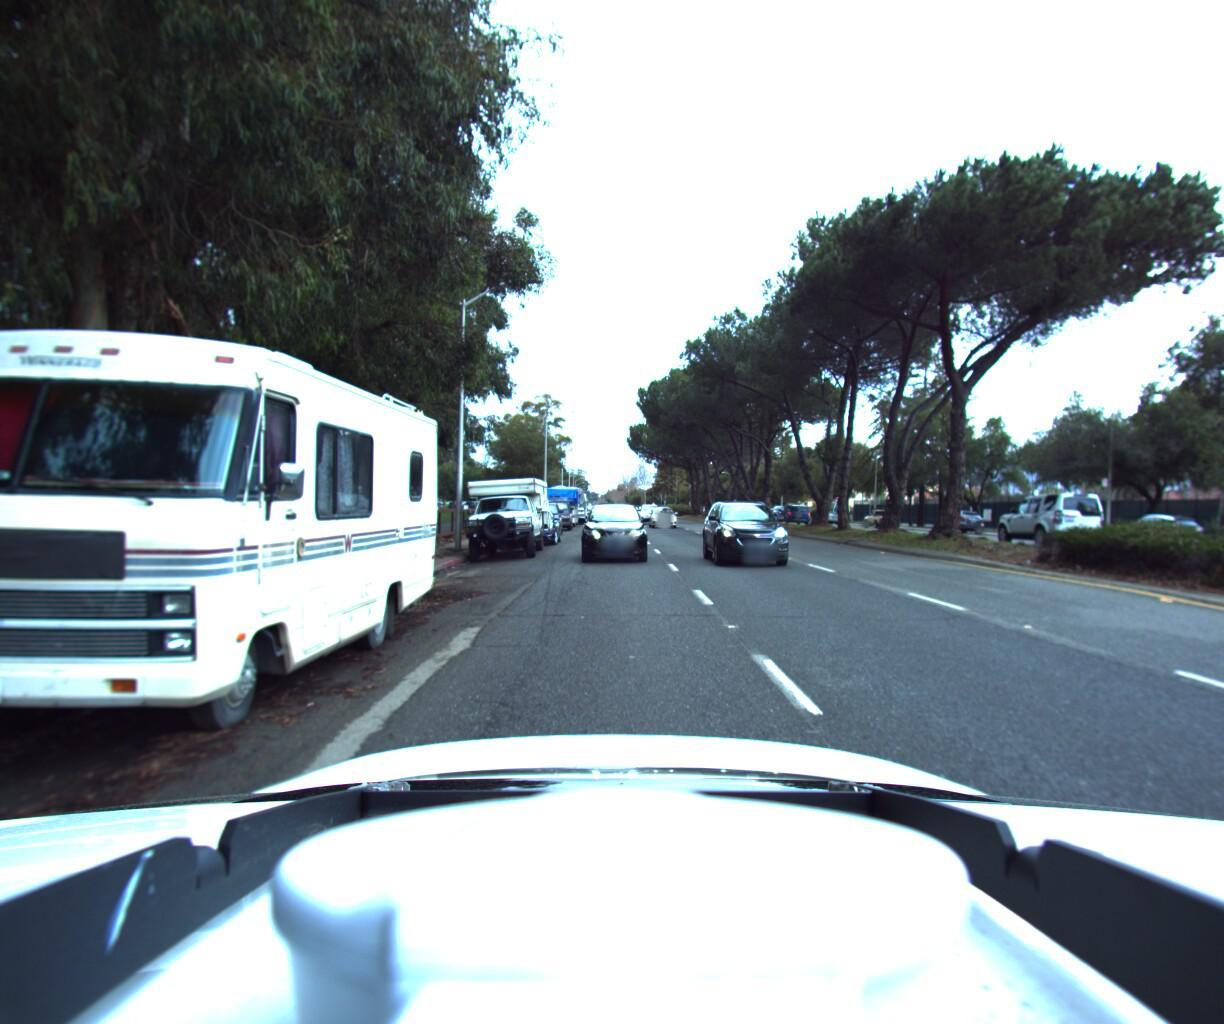car: (439, 472, 551, 562), (703, 499, 818, 573), (977, 492, 1092, 542), (573, 502, 649, 565), (1110, 510, 1212, 546), (506, 506, 560, 545), (535, 492, 574, 531), (521, 501, 564, 536), (936, 507, 987, 533), (858, 503, 900, 527), (775, 502, 810, 522), (644, 507, 674, 529), (632, 503, 658, 525)
other_vehicle: (530, 480, 583, 528)
